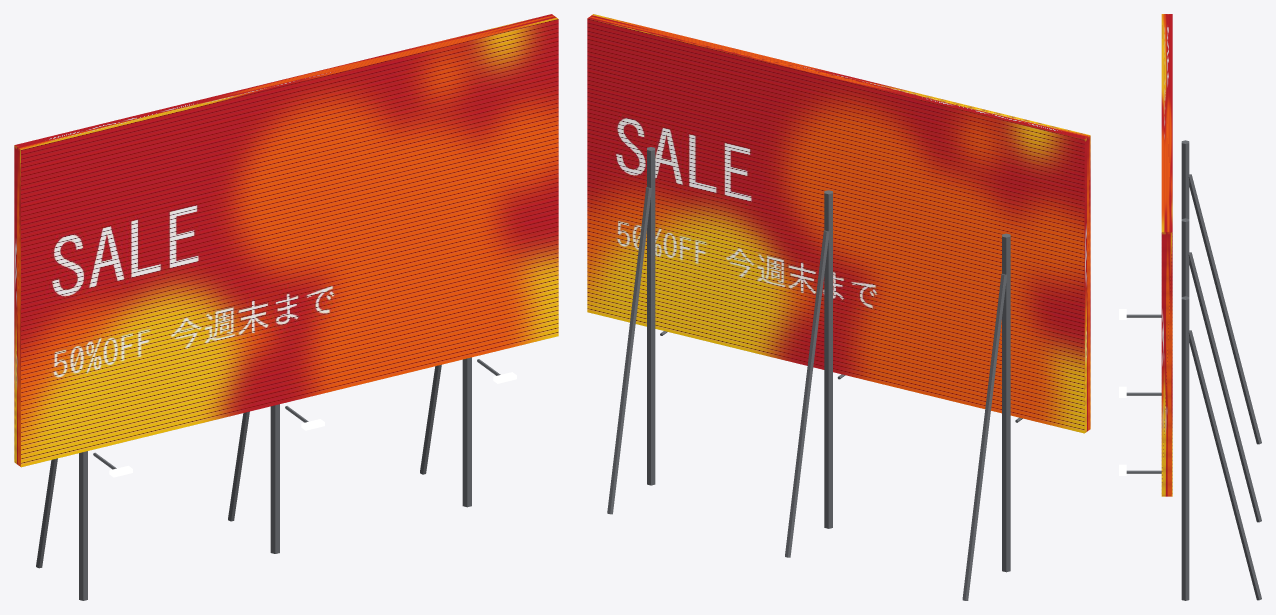
File: rooftop_billboard.glb
The picture shows the model from 3 angles, left to right: view 1: azimuth 30°, elevation 25°; view 2: azimuth 150°, elevation 25°; view 3: azimuth 270°, elevation 25°; orthographic projection. The views are drawn at different scales.
Visible parts, largest first — view 1: rooftop_billboard; view 2: rooftop_billboard; view 3: rooftop_billboard.
Boxes of the visible parts, x1,y1,x2,y2 form: rooftop_billboard: [14, 14, 558, 600]; rooftop_billboard: [587, 14, 1090, 600]; rooftop_billboard: [1119, 14, 1261, 600].
Size of the model in its own units: 14 by 11.92 by 3.87.
Materials: 3 (1 with a texture image).
